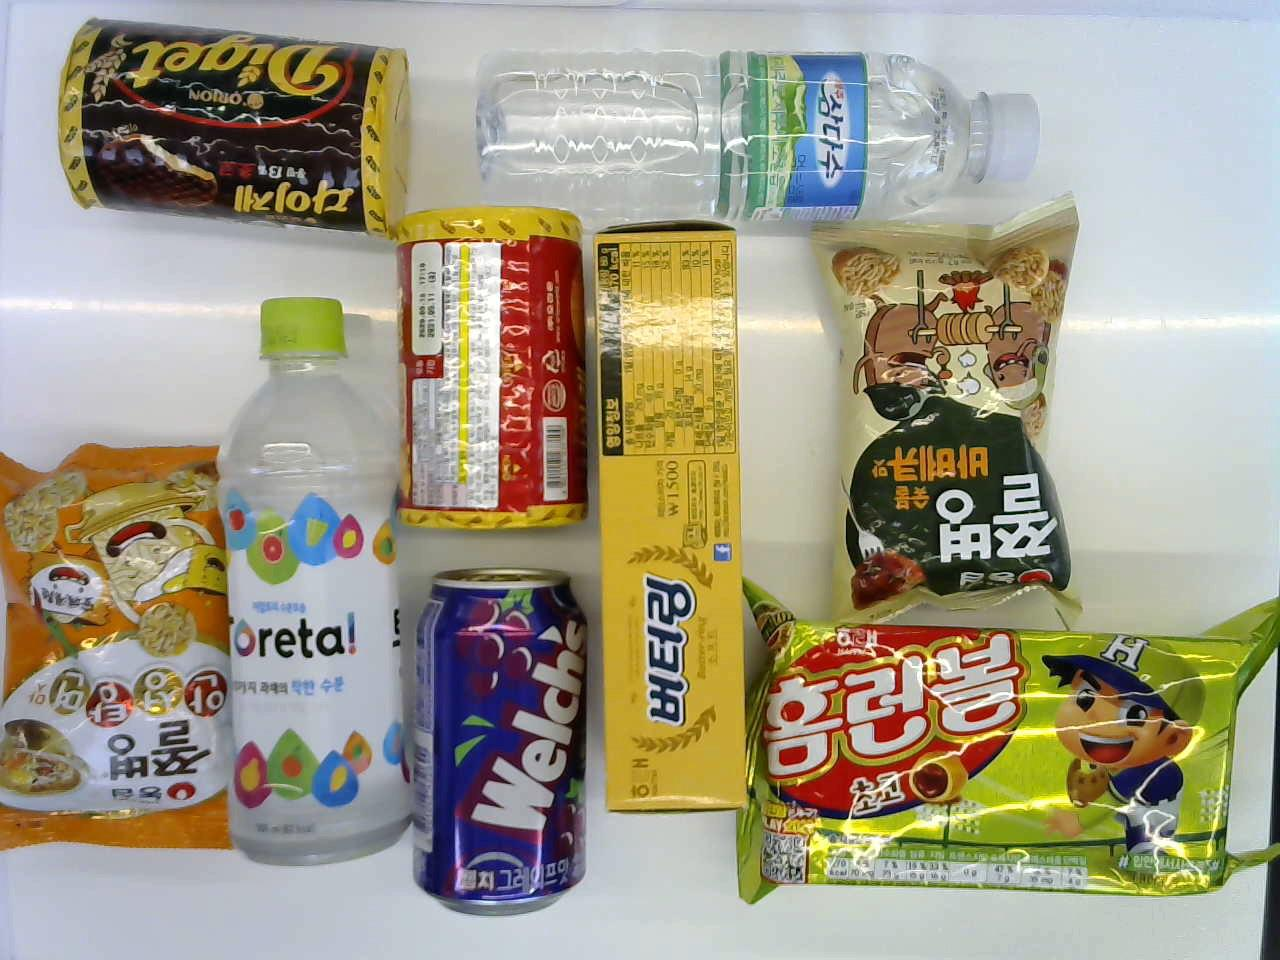buttering: (586, 205, 757, 815)
diget_choco: (65, 27, 400, 247)
diget_ori: (390, 197, 593, 554)
homerunball: (731, 613, 1251, 924)
jjolbyung_noodle: (5, 449, 239, 853)
jjolbyung_ori: (833, 191, 1111, 608)
samdasu: (459, 45, 1053, 223)
toreta: (215, 279, 414, 864)
welchs: (402, 562, 605, 919)
